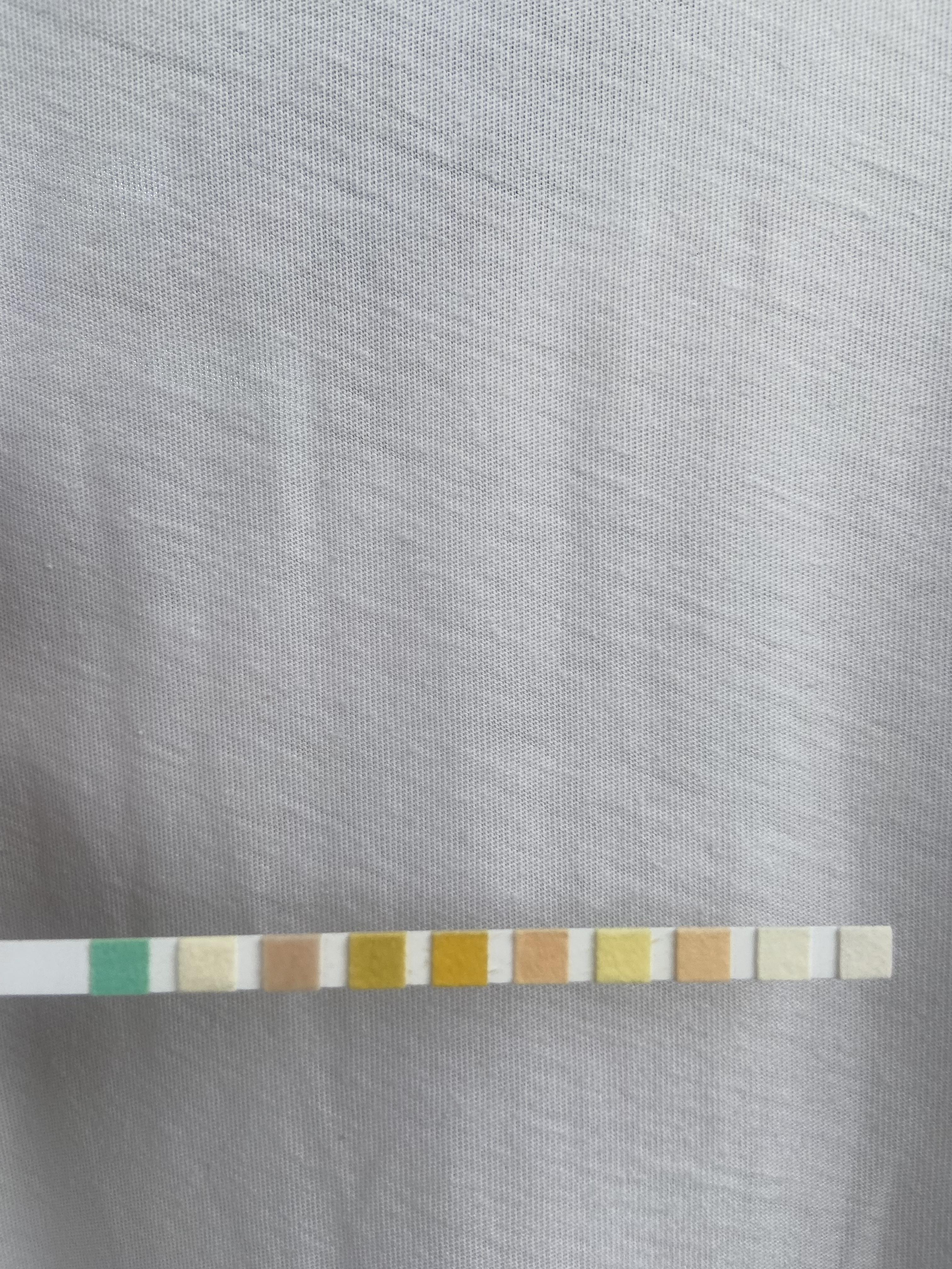Bilirubin: (180, 937, 235, 991)
Blood: (433, 931, 487, 986)
Glucose: (90, 939, 148, 995)
Ketone: (265, 935, 319, 988)
Leukocytes: (842, 926, 891, 977)
Nitrite: (759, 928, 808, 979)
Protein: (597, 928, 650, 980)
SpGravity: (350, 934, 405, 987)
Urobilinogen: (678, 928, 729, 980)
pH: (515, 930, 568, 983)
strip: (9, 927, 893, 997)
